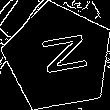N_W: (29, 33, 87, 82)
